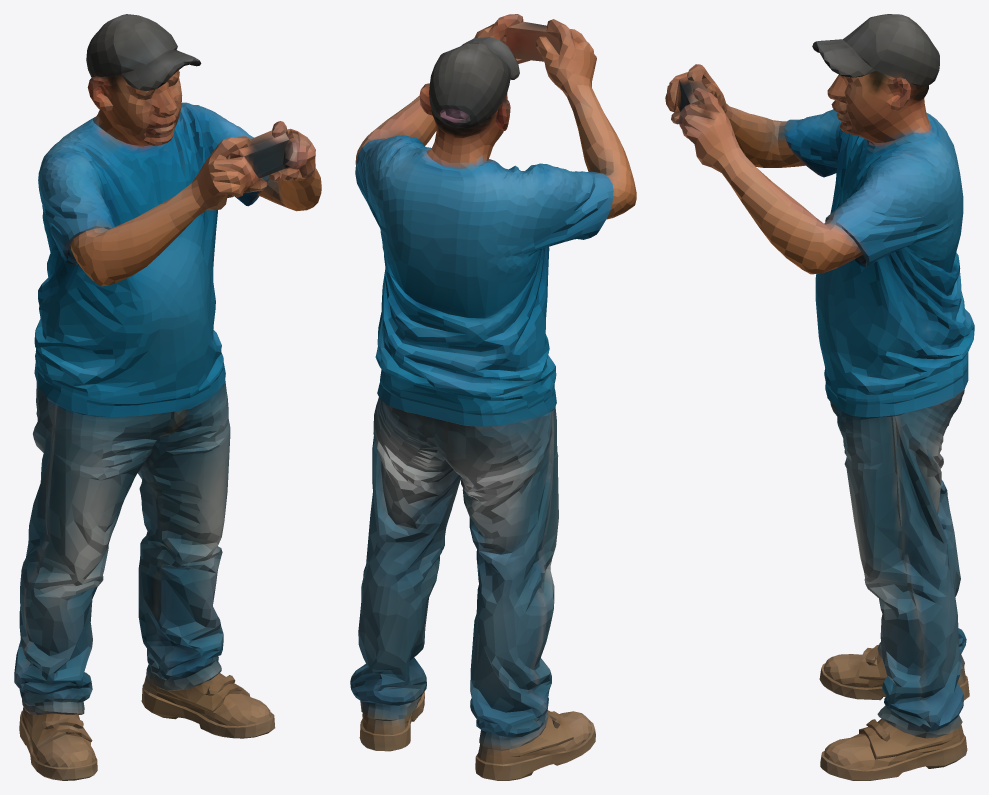
3 renders of one model, left to right at view 1: azimuth 30°, elevation 25°; view 2: azimuth 150°, elevation 25°; view 3: azimuth 270°, elevation 25°, orthographic. The views are drawn at different scales.
Parts seen in each view (by area): view 1: texture_pbr_v128; view 2: texture_pbr_v128; view 3: texture_pbr_v128.
Boxes of the visible parts, bbox=[...] form: texture_pbr_v128: bbox=[14, 14, 321, 780]; texture_pbr_v128: bbox=[350, 14, 636, 780]; texture_pbr_v128: bbox=[665, 14, 974, 780].
Bounding box in the file's own units: 0.4112 × 1.1 × 0.435.
1 material, 1 textured.
